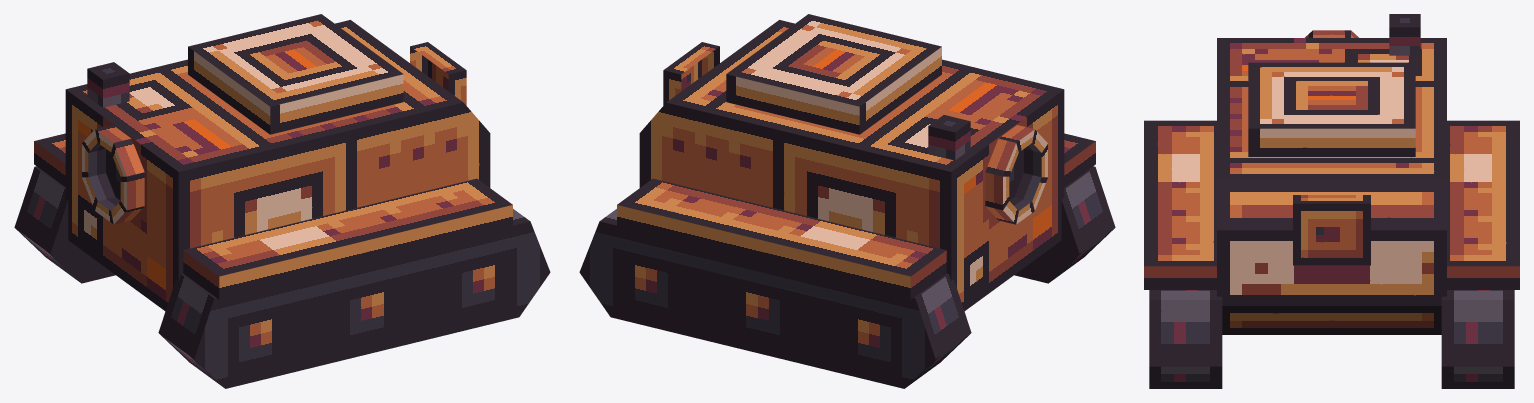
Rendered from scrapper.glb.
The picture shows the model from 3 angles, left to right: view 1: azimuth 30°, elevation 25°; view 2: azimuth 150°, elevation 25°; view 3: azimuth 270°, elevation 25°; orthographic projection.
Visible parts, largest first — view 1: body, tread_r, tread_l; view 2: body, tread_l, tread_r; view 3: body, tread_l, tread_r.
Boxes of the visible parts, left/top/right/bottom form: body: left=34, top=14, right=512, bottom=311; tread_r: left=158, top=209, right=550, bottom=388; tread_l: left=14, top=166, right=115, bottom=283; body: left=617, top=14, right=1095, bottom=311; tread_l: left=579, top=209, right=971, bottom=388; tread_r: left=1014, top=166, right=1115, bottom=283; body: left=1144, top=14, right=1519, bottom=334; tread_l: left=1441, top=290, right=1514, bottom=388; tread_r: left=1149, top=290, right=1222, bottom=388.
Bounding box in the file's own units: 0.8 × 0.48 × 0.72.
Materials: 1 (1 with a texture image).
